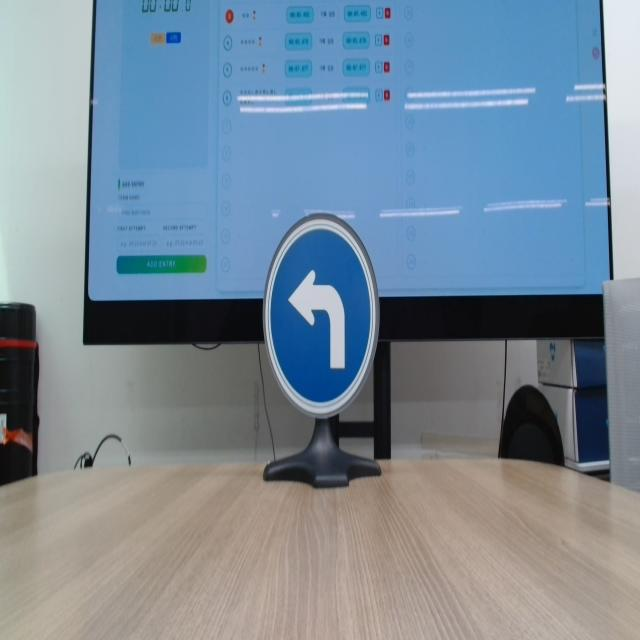left_direction: (250, 208, 388, 424)
